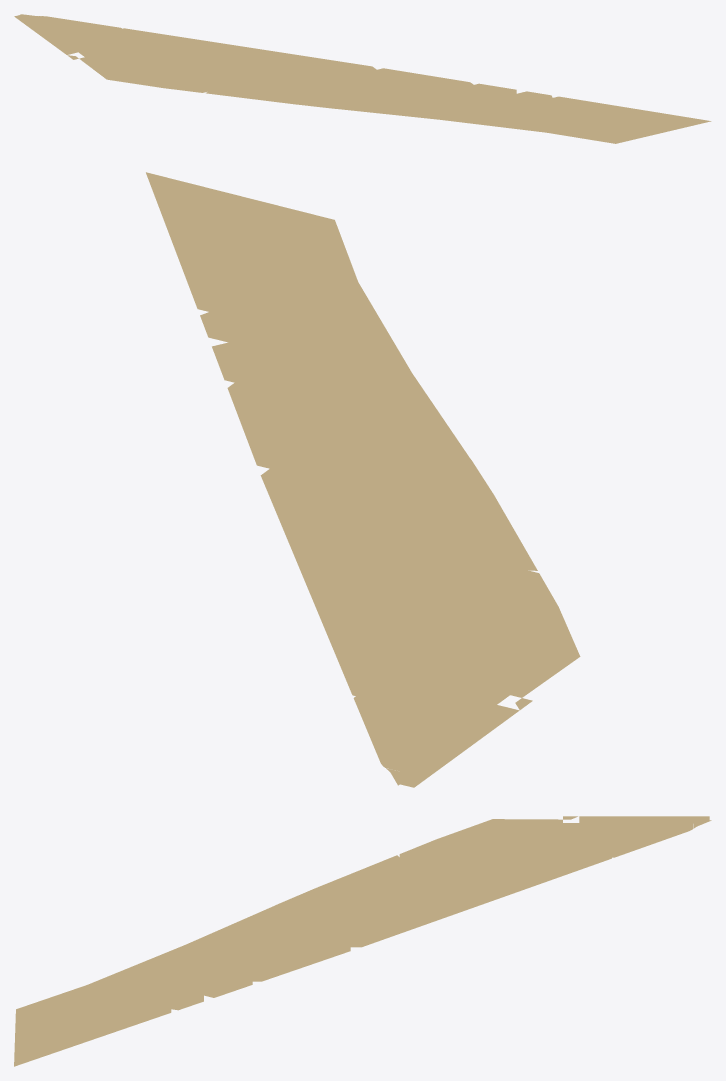
The model's file is SAND.fbx.
3 renders of one model, top to bottom at view 1: azimuth 30°, elevation 25°; view 2: azimuth 150°, elevation 25°; view 3: azimuth 270°, elevation 25°, orthographic. The views are drawn at different scales.
Visible parts, largest first — view 1: SAND; view 2: SAND; view 3: SAND.
Part boxes in pixels (x1,y1,x2,y2): SAND: (14, 14, 711, 143); SAND: (146, 172, 580, 787); SAND: (14, 816, 711, 1066).
Size of the model in its own units: 1090 by 0 by 1283.
